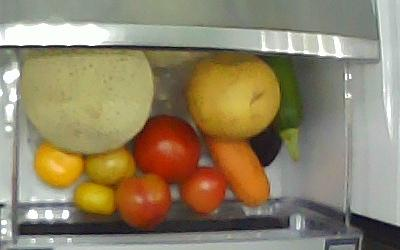carrot: (200, 132, 270, 206)
eggplant: (247, 121, 282, 168)
melon: (21, 48, 154, 153)
pear: (184, 52, 281, 139)
prune: (114, 172, 171, 228), (179, 166, 226, 214), (83, 145, 136, 184)
tangerine: (33, 141, 84, 188), (72, 179, 115, 215)
tomato: (133, 113, 201, 183)
zucchini: (256, 53, 303, 161)
